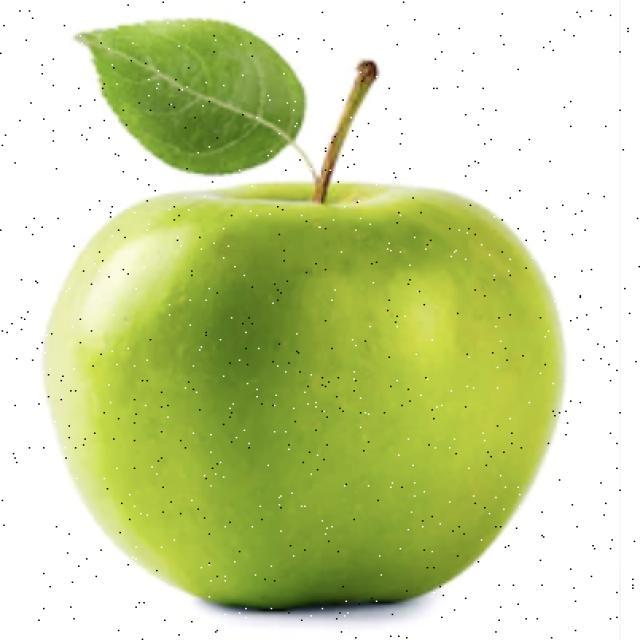Apple: (42, 20, 565, 611)
